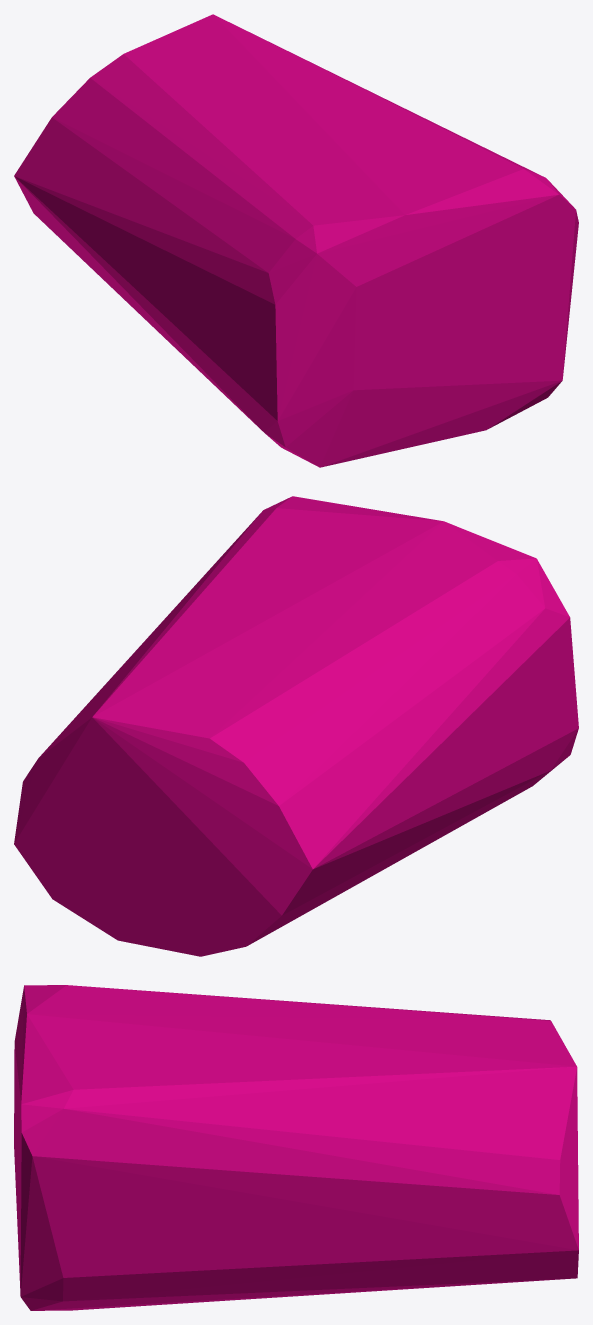
The model's file is model3_convex_piece_004.obj.
3 renders of one model, top to bottom at view 1: azimuth 30°, elevation 25°; view 2: azimuth 150°, elevation 25°; view 3: azimuth 270°, elevation 25°, orthographic. The views are drawn at different scales.
Bounding box in the file's own units: 0.0223 × 0.0164 × 0.0347.
